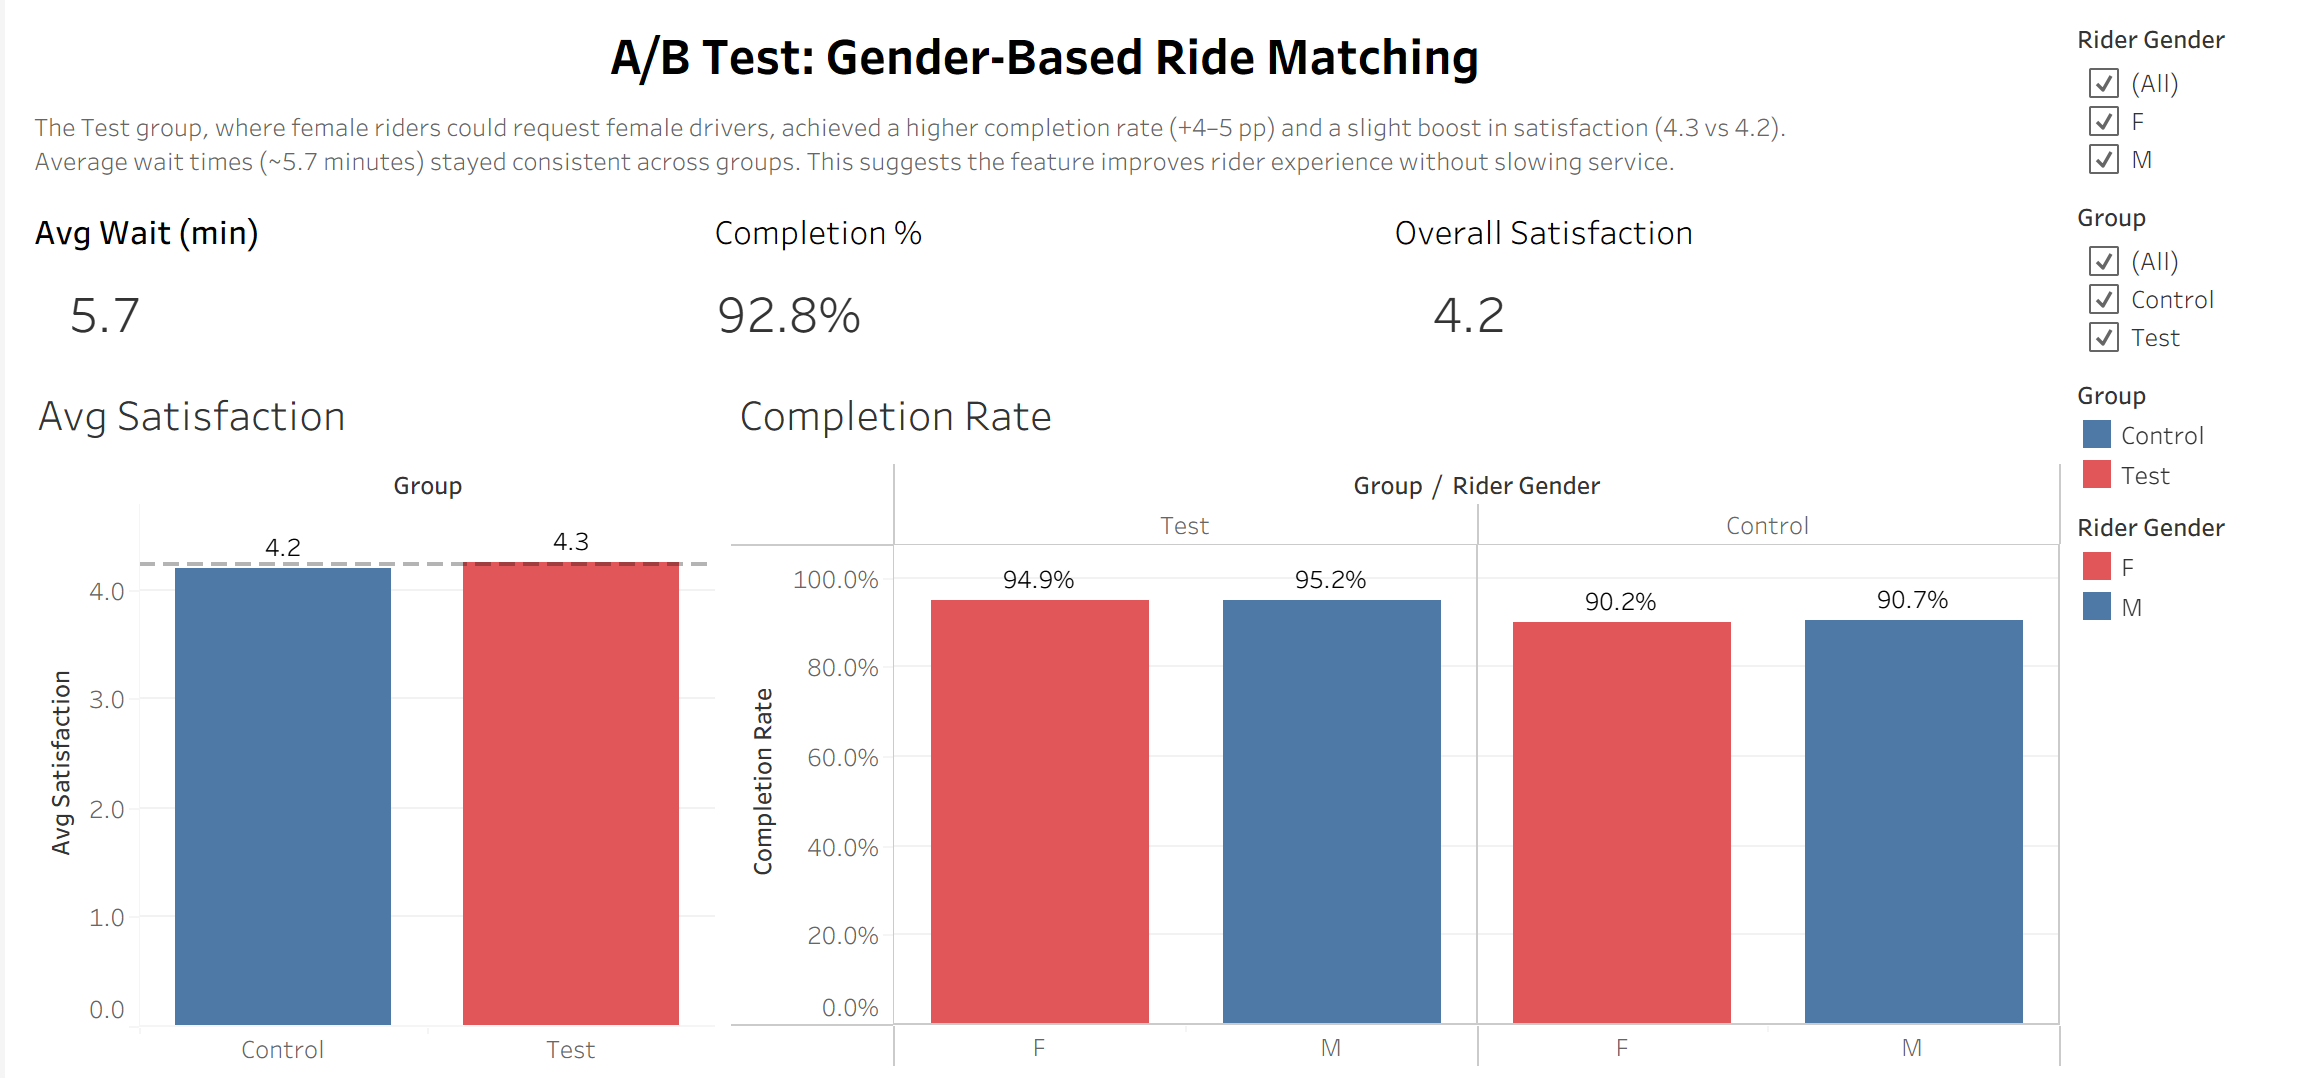

The dashboard page shown, as its layout file describes it:
{"tool":"tableau","page":{"name":"Gender-Based Ride Matching: A/B Test Results","canvas":[1200,900],"ordinal":0},"visuals":[{"type":"text","box":[8,8,1024,41]},{"type":"filter","title":"Avg Satisfaction","param":"[federated.1w84nrl01ce60k14jcceg1qkmk2p].[none:rider_gender:nk]","box":[1032,8,160,89]},{"type":"text","box":[8,49,1024,48]},{"type":"text","box":[8,97,340,40]},{"type":"text","box":[348,97,340,40]},{"type":"text","box":[688,97,344,40]},{"type":"filter","title":"Avg Satisfaction","param":"[federated.1w84nrl01ce60k14jcceg1qkmk2p].[none:group:nk]","box":[1032,97,160,89]},{"type":"worksheet","title":"Avg Wait Time (min)","mark":"Automatic","box":[8,137,340,42]},{"type":"worksheet","title":"Overall Completion %","mark":"Automatic","box":[348,137,342,49]},{"type":"worksheet","title":"Overall Satisfaction","mark":"Automatic","box":[690,137,342,49]},{"type":"worksheet","title":"Avg Satisfaction","mark":"Automatic","rows":["Calculation_466967029186293762"],"cols":["group"],"box":[8,186,350.7,353]},{"type":"worksheet","title":"Completion Rate","mark":"Automatic","rows":["Calculation_466967029185380352"],"cols":["group","rider_gender"],"box":[358.7,186,673.3,353]},{"type":"legend","title":"Avg Satisfaction","param":"[federated.1w84nrl01ce60k14jcceg1qkmk2p].[none:group:nk]","box":[1032,186,160,66]},{"type":"legend","title":"Completion Rate","param":"[federated.1w84nrl01ce60k14jcceg1qkmk2p].[none:rider_gender:nk]","box":[1032,252,160,66]},{"type":"worksheet","title":"Wait Times: Test vs Control, Male vs Female","mark":"GanttBar","rows":["wait_time_minutes"],"cols":["group","rider_gender"],"box":[8,539,304,353]},{"type":"worksheet","title":"Satisfaction vs Wait Time","mark":"Circle","rows":["satisfaction_score"],"cols":["wait_time_minutes"],"box":[312,539,880,353]}]}

Visuals, with their boxes on the page's 1200x900 design canvas (x1, y1, x2, y2). These are canvas units, not pixel positions in the 2300x1078 screenshot, which may show the page scaled, cropped or inside an application window:
text: [8,8,1032,49]
"Avg Satisfaction" filter: [1032,8,1192,97]
text: [8,49,1032,97]
text: [8,97,348,137]
text: [348,97,688,137]
text: [688,97,1032,137]
"Avg Satisfaction" filter: [1032,97,1192,186]
"Avg Wait Time (min)" worksheet: [8,137,348,179]
"Overall Completion %" worksheet: [348,137,690,186]
"Overall Satisfaction" worksheet: [690,137,1032,186]
"Avg Satisfaction" worksheet: [8,186,359,539]
"Completion Rate" worksheet: [359,186,1032,539]
"Avg Satisfaction" legend: [1032,186,1192,252]
"Completion Rate" legend: [1032,252,1192,318]
"Wait Times: Test vs Control, Male vs Female" worksheet (GanttBar marks): [8,539,312,892]
"Satisfaction vs Wait Time" worksheet (Circle marks): [312,539,1192,892]
